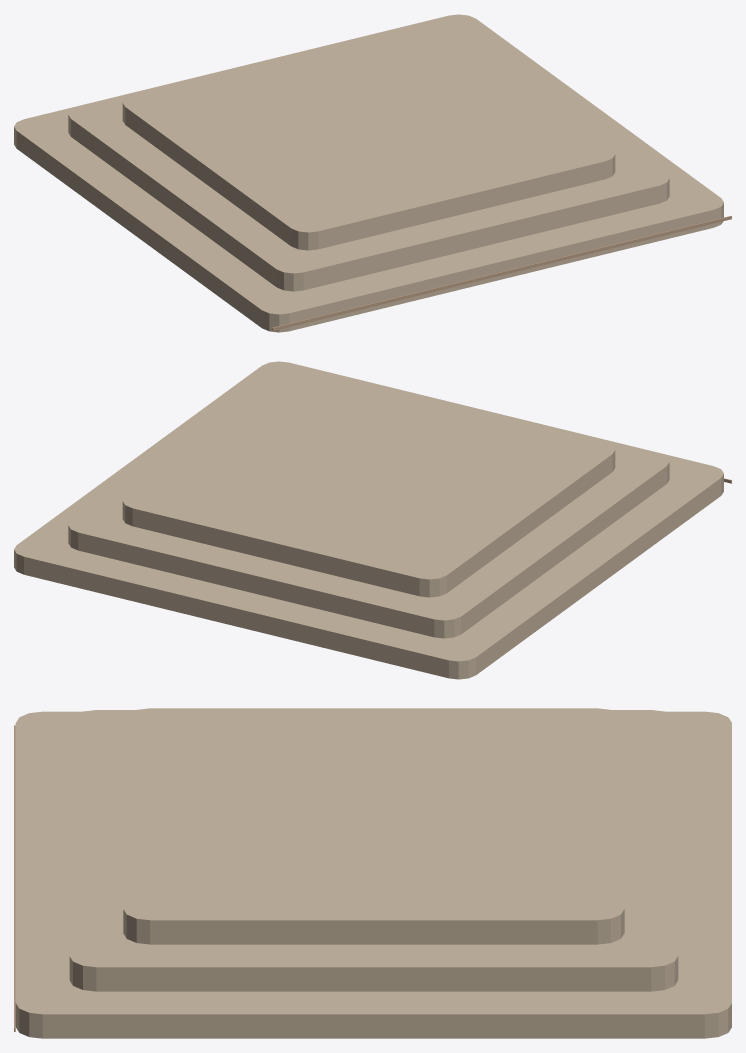
File: city_monument_base.glb
3 renders of one model, top to bottom at view 1: azimuth 30°, elevation 25°; view 2: azimuth 150°, elevation 25°; view 3: azimuth 270°, elevation 25°, orthographic. The views are drawn at different scales.
Visible parts, largest first — view 1: CityMonumentBase_Step2, CityMonumentBase_Step0, CityMonumentBase_Step1, CityMonumentBase_Strata0; view 2: CityMonumentBase_Step2, CityMonumentBase_Step0, CityMonumentBase_Step1; view 3: CityMonumentBase_Step2, CityMonumentBase_Step0, CityMonumentBase_Step1, CityMonumentBase_Strata0.
Boxes of the visible parts, x1,y1,x2,y2 form: CityMonumentBase_Step2: [122, 24, 615, 250]; CityMonumentBase_Step0: [14, 14, 723, 332]; CityMonumentBase_Step1: [68, 19, 669, 291]; CityMonumentBase_Strata0: [272, 216, 731, 331]; CityMonumentBase_Step2: [122, 371, 615, 597]; CityMonumentBase_Step0: [14, 361, 723, 679]; CityMonumentBase_Step1: [68, 366, 669, 638]; CityMonumentBase_Step2: [123, 708, 624, 944]; CityMonumentBase_Step0: [15, 711, 731, 1038]; CityMonumentBase_Step1: [69, 710, 678, 991]; CityMonumentBase_Strata0: [14, 725, 15, 1031].
Bounding box in the file's own units: 8 × 0.9 × 8.02.
